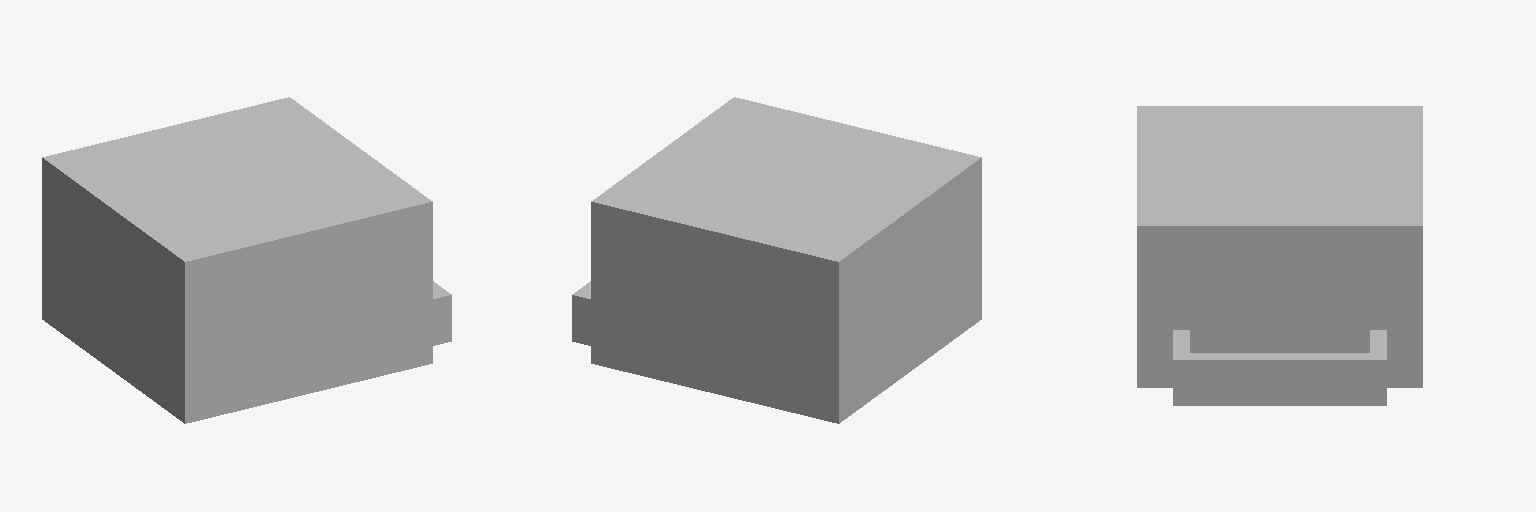
The model's file is building_041.obj.
3 views of the same model, side by side, from view 1: azimuth 30°, elevation 25°; view 2: azimuth 150°, elevation 25°; view 3: azimuth 270°, elevation 25° (orthographic).
Parts seen in each view (by area): view 1: building_041; view 2: building_041; view 3: building_041.
Part boxes in pixels (left/top/right/bottom): building_041: left=42, top=97, right=451, bottom=423; building_041: left=572, top=97, right=981, bottom=423; building_041: left=1137, top=106, right=1422, bottom=405.
Bounding box in the file's own units: 1.15 × 0.625 × 1.